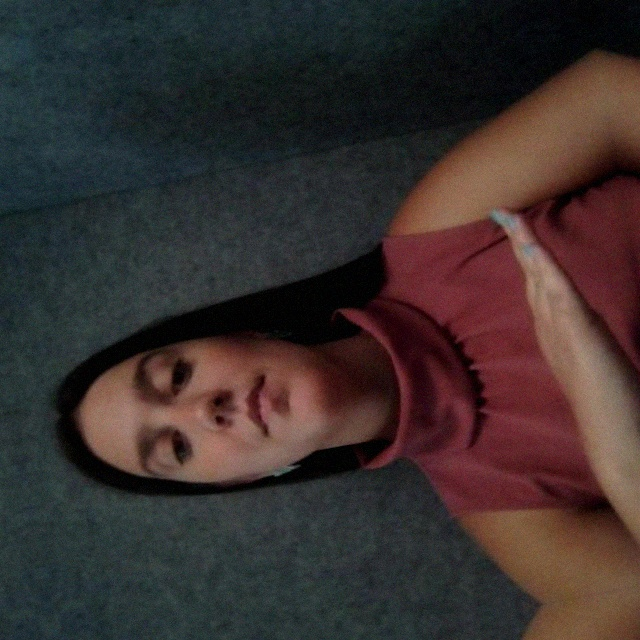Paper: (472, 184, 640, 481)
